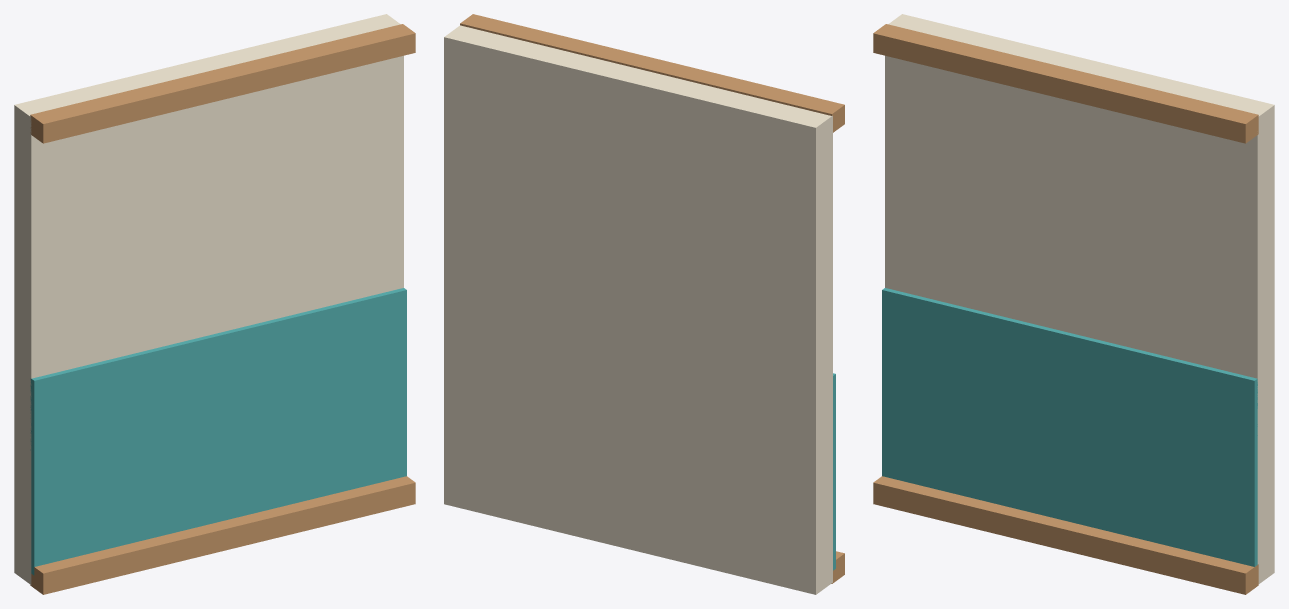
File: wall_teal_backsplash.glb
3 renders of one model, left to right at view 1: azimuth 30°, elevation 25°; view 2: azimuth 150°, elevation 25°; view 3: azimuth 330°, elevation 25°, orthographic.
Parts seen in each view (by area): view 1: wall_teal_backsplash; view 2: wall_teal_backsplash; view 3: wall_teal_backsplash.
Boxes of the visible parts, bbox=[...] form: wall_teal_backsplash: bbox=[14, 14, 415, 594]; wall_teal_backsplash: bbox=[444, 14, 844, 594]; wall_teal_backsplash: bbox=[873, 14, 1274, 594].
Bounding box in the file's own units: 2 × 2.42 × 0.27.
